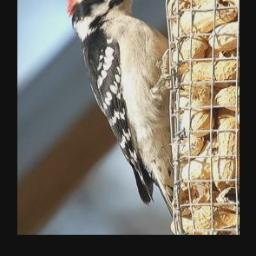Woodpecker: (65, 0, 181, 215)
